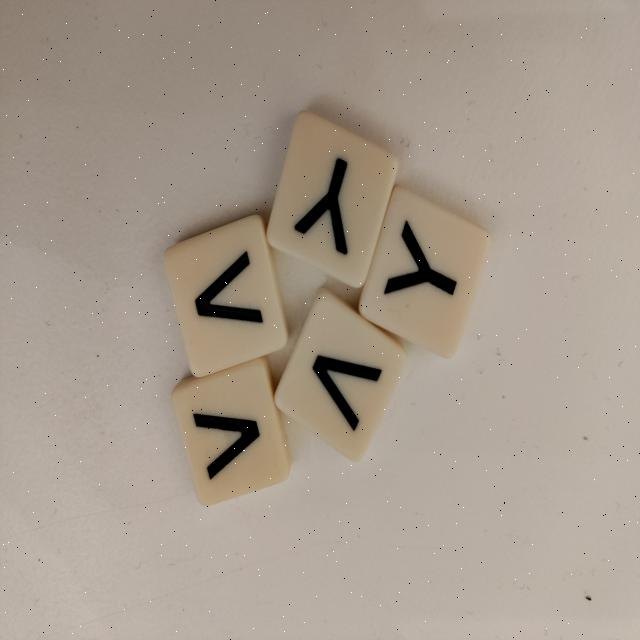v: (271, 285, 410, 464), (162, 212, 292, 382), (170, 354, 296, 509)
y: (263, 107, 399, 290), (356, 183, 493, 364)
